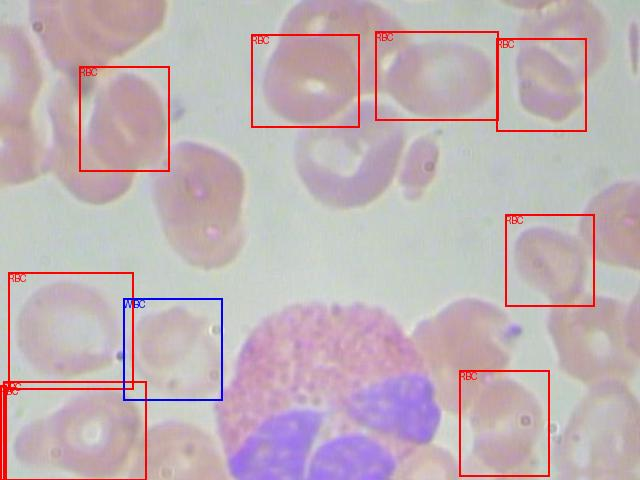RBC: (8, 272, 133, 389), (3, 381, 146, 480), (375, 31, 498, 120), (251, 34, 359, 127), (459, 370, 549, 476), (79, 66, 169, 171), (496, 38, 586, 131), (505, 214, 594, 306), (0, 385, 6, 480)
WBC: (123, 298, 222, 400)
